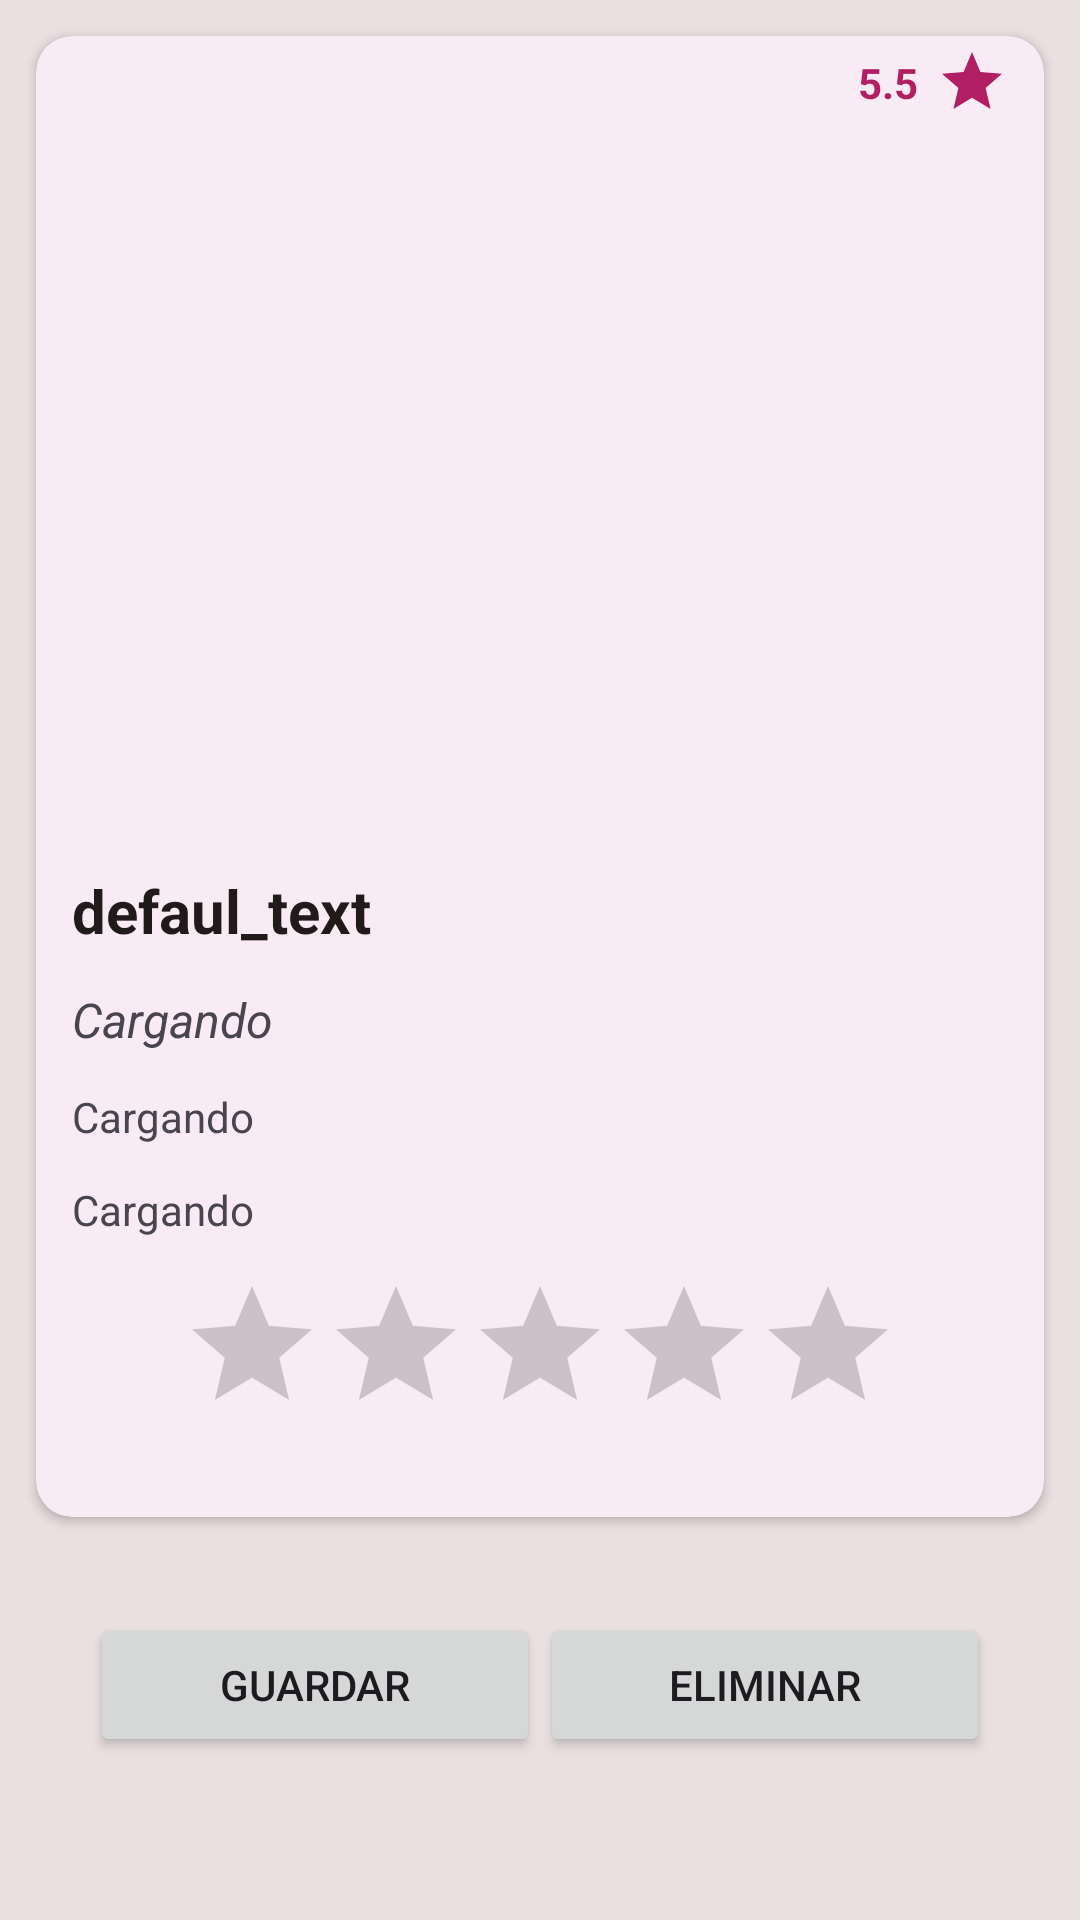

Point at icon controls on the screen. Image size 1080px x 1920px, points as [x,y].
star: [972,80]
